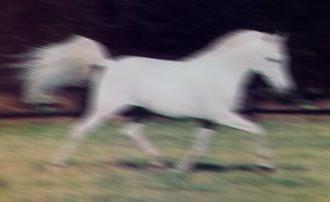horse: (2, 28, 294, 174)
